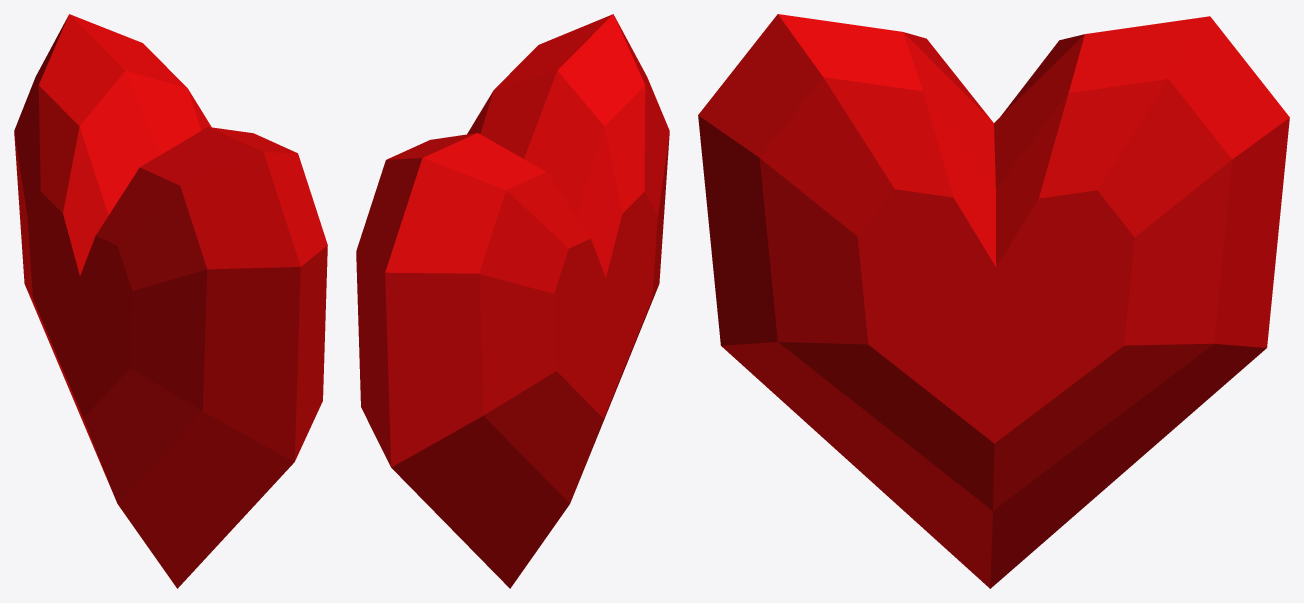
Rendered from HealthPickup.fbx.
3 renders of one model, left to right at view 1: azimuth 30°, elevation 25°; view 2: azimuth 150°, elevation 25°; view 3: azimuth 270°, elevation 25°, orthographic. The views are drawn at different scales.
Parts seen in each view (by area): view 1: Plane; view 2: Plane; view 3: Plane.
Boxes of the visible parts, x1,y1,x2,y2 form: Plane: [14, 14, 327, 588]; Plane: [356, 14, 669, 588]; Plane: [698, 14, 1289, 588].
Size of the model in its own units: 225 by 598 by 562.
